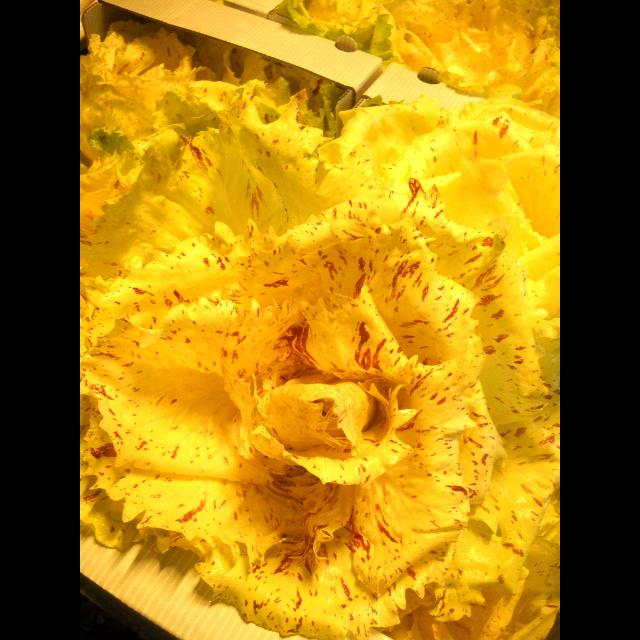Flower: (80, 39, 528, 637)
